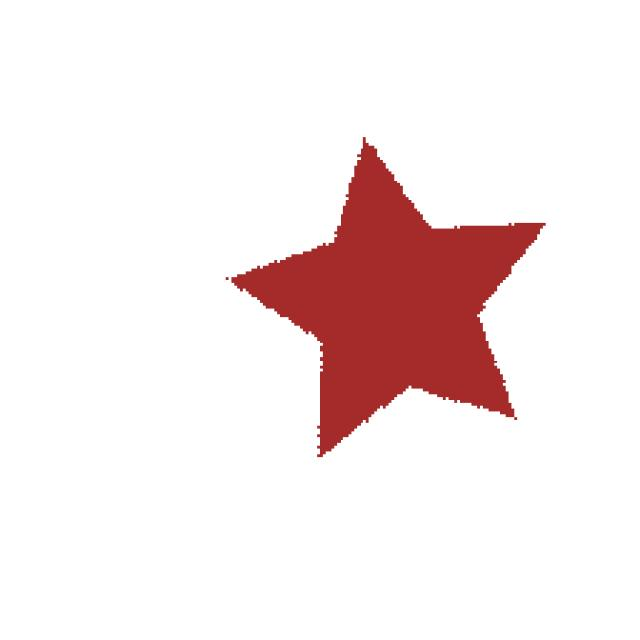Star: (213, 100, 576, 500)
